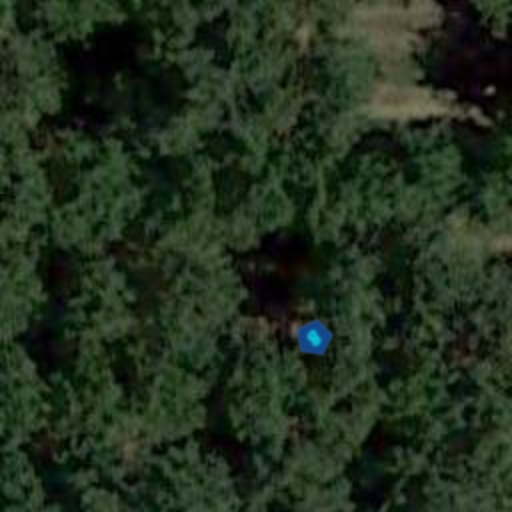pentagon: (286, 310, 342, 366)
